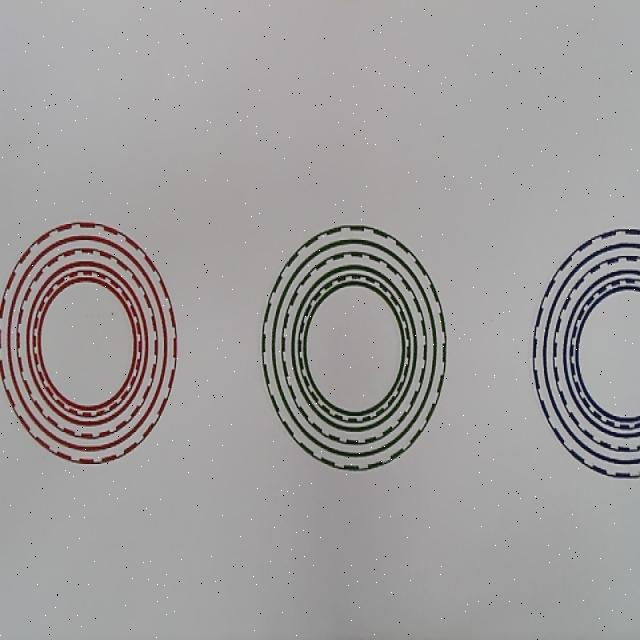g: (260, 226, 448, 474)
red-green-blue: (0, 222, 176, 464)
